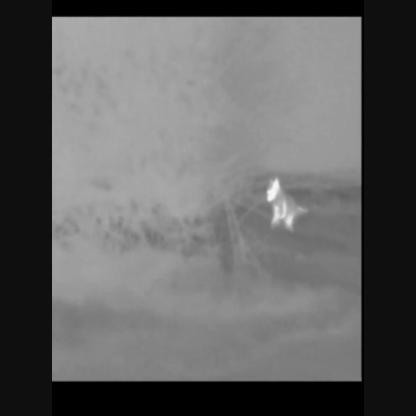rehkitze: (262, 178, 314, 232)
